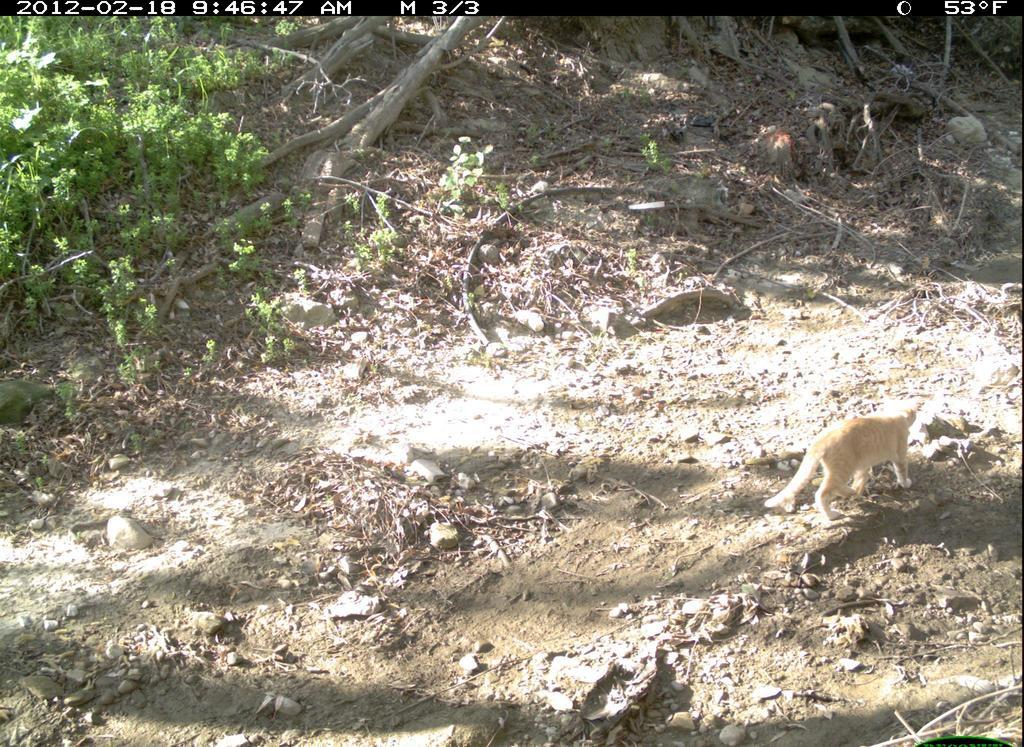cat: (752, 392, 935, 527)
